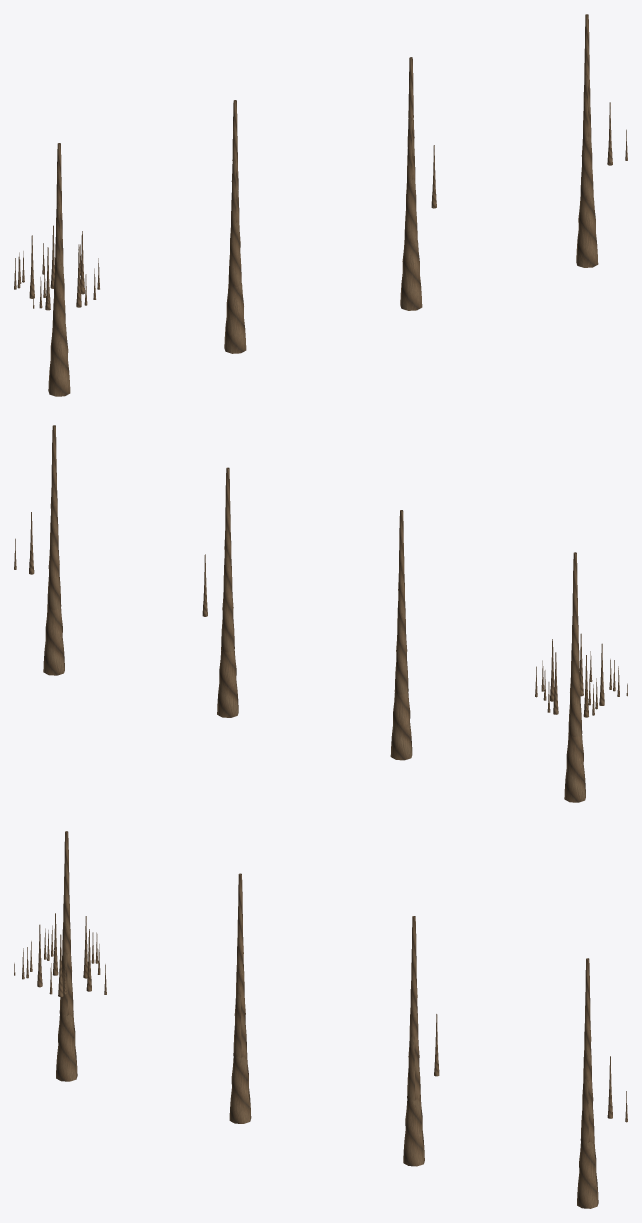
Rendered from treesection-rendered.glb.
3 views of the same model, one above another, from view 1: azimuth 30°, elevation 25°; view 2: azimuth 150°, elevation 25°; view 3: azimuth 330°, elevation 25° (orthographic).
Visible parts, largest first — view 1: Trunk604d8ce639154e75e32a5cd7, Trunk604d8ce639154e75e32a5cdd, Trunk604d8ce639154e75e32a5c55, Trunk604d8ce639154e75e32a5cd3; view 2: Trunk604d8ce639154e75e32a5cd7, Trunk604d8ce639154e75e32a5cdd, Trunk604d8ce639154e75e32a5c55, Trunk604d8ce639154e75e32a5cd3; view 3: Trunk604d8ce639154e75e32a5cd7, Trunk604d8ce639154e75e32a5cdd, Trunk604d8ce639154e75e32a5cd3, Trunk604d8ce639154e75e32a5c55.
Part boxes in pixels (x1,y1,x2,y2): Trunk604d8ce639154e75e32a5cd7: (400, 57, 422, 310); Trunk604d8ce639154e75e32a5cdd: (576, 14, 598, 267); Trunk604d8ce639154e75e32a5c55: (48, 143, 70, 396); Trunk604d8ce639154e75e32a5cd3: (224, 100, 246, 353); Trunk604d8ce639154e75e32a5cd7: (217, 467, 238, 717); Trunk604d8ce639154e75e32a5cdd: (43, 425, 64, 675); Trunk604d8ce639154e75e32a5c55: (564, 552, 585, 802); Trunk604d8ce639154e75e32a5cd3: (390, 510, 412, 760); Trunk604d8ce639154e75e32a5cd7: (403, 916, 424, 1166); Trunk604d8ce639154e75e32a5cdd: (577, 958, 598, 1208); Trunk604d8ce639154e75e32a5cd3: (229, 873, 251, 1123); Trunk604d8ce639154e75e32a5c55: (56, 831, 77, 1081).
Size of the model in its own units: 34.57 by 13.5 by 4.32.
1 material, 1 textured.
